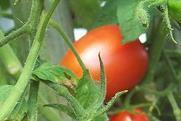tomato: (62, 24, 148, 98)
